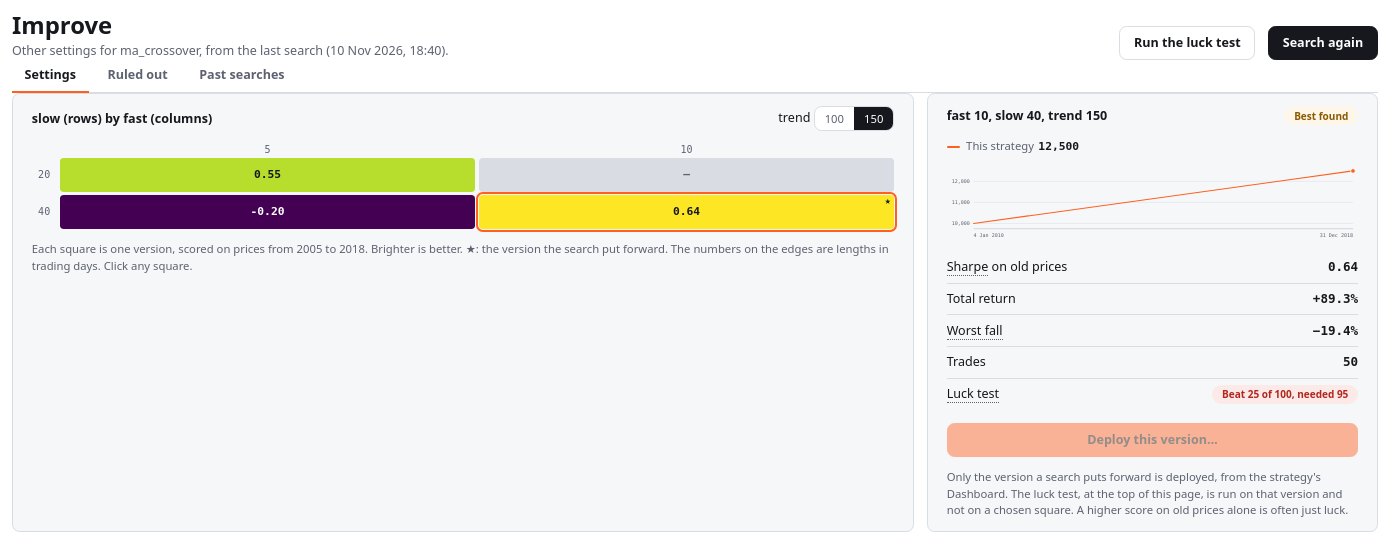
Improve › says a version whose replay failed has no score, not a zero
Click the button named "fast 10, slow 20, trend 150, no score" at (687, 175), box x1=479 y1=158 x2=894 y2=192
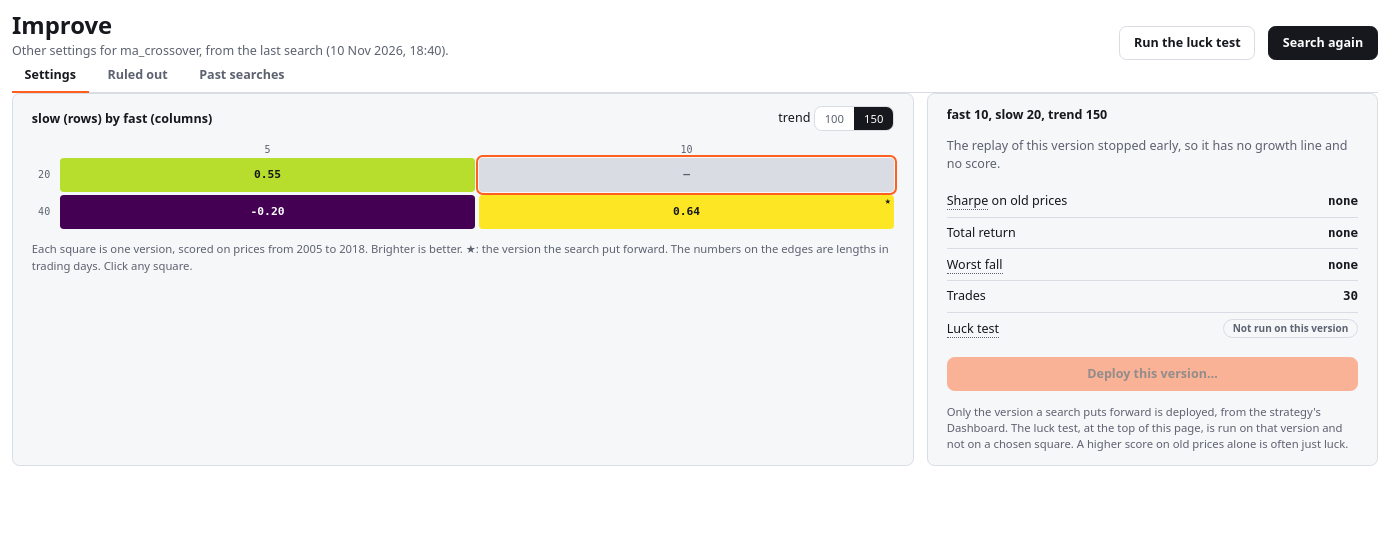
Expected: the text "none" is shown 3 times, x1=1328 y1=192 x2=1358 y2=210; x1=1328 y1=224 x2=1358 y2=242; x1=1328 y1=256 x2=1358 y2=274
Result: the text "stopped early" is shown at x1=947 y1=137 x2=1348 y2=172
